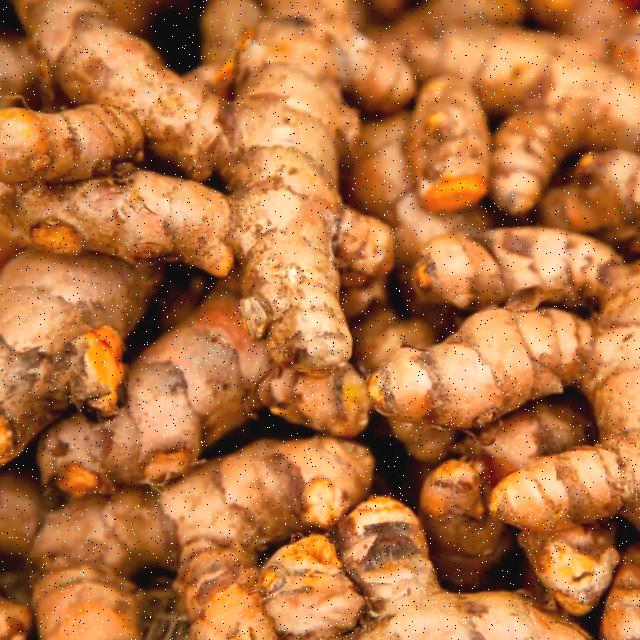turmeric: (208, 9, 410, 384), (13, 433, 376, 640), (414, 215, 637, 521)
